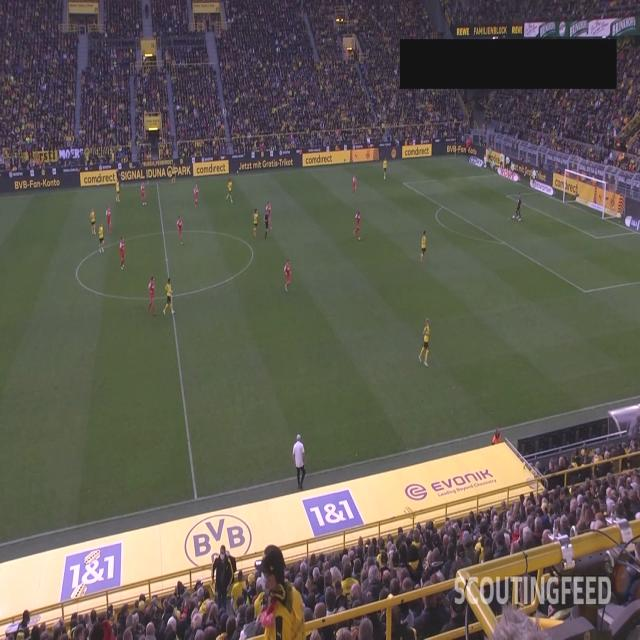f_player: (242, 550, 310, 640), (294, 434, 308, 489), (420, 318, 432, 368), (163, 278, 174, 316), (148, 279, 158, 315), (282, 260, 292, 294), (250, 209, 260, 241), (513, 194, 525, 220), (264, 204, 273, 236), (352, 212, 362, 240), (420, 230, 428, 264), (119, 237, 127, 268), (139, 183, 147, 207), (176, 217, 183, 244), (193, 185, 200, 208), (351, 176, 356, 196)
